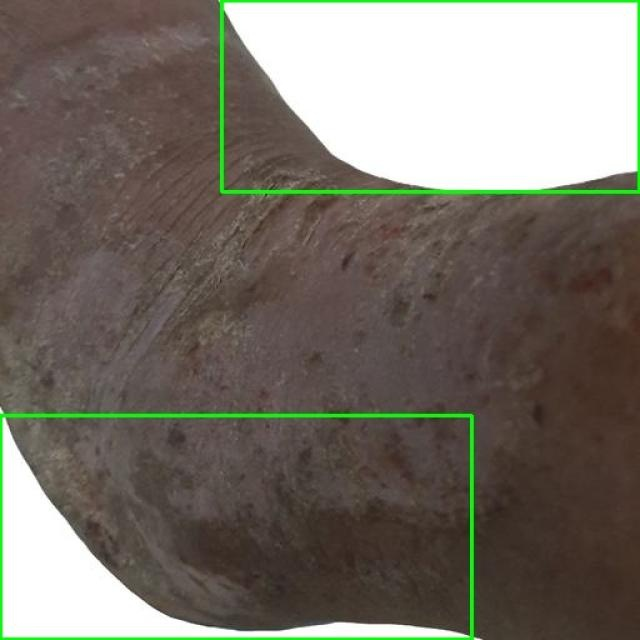Eczema: (0, 415, 471, 639), (221, 0, 639, 191)
